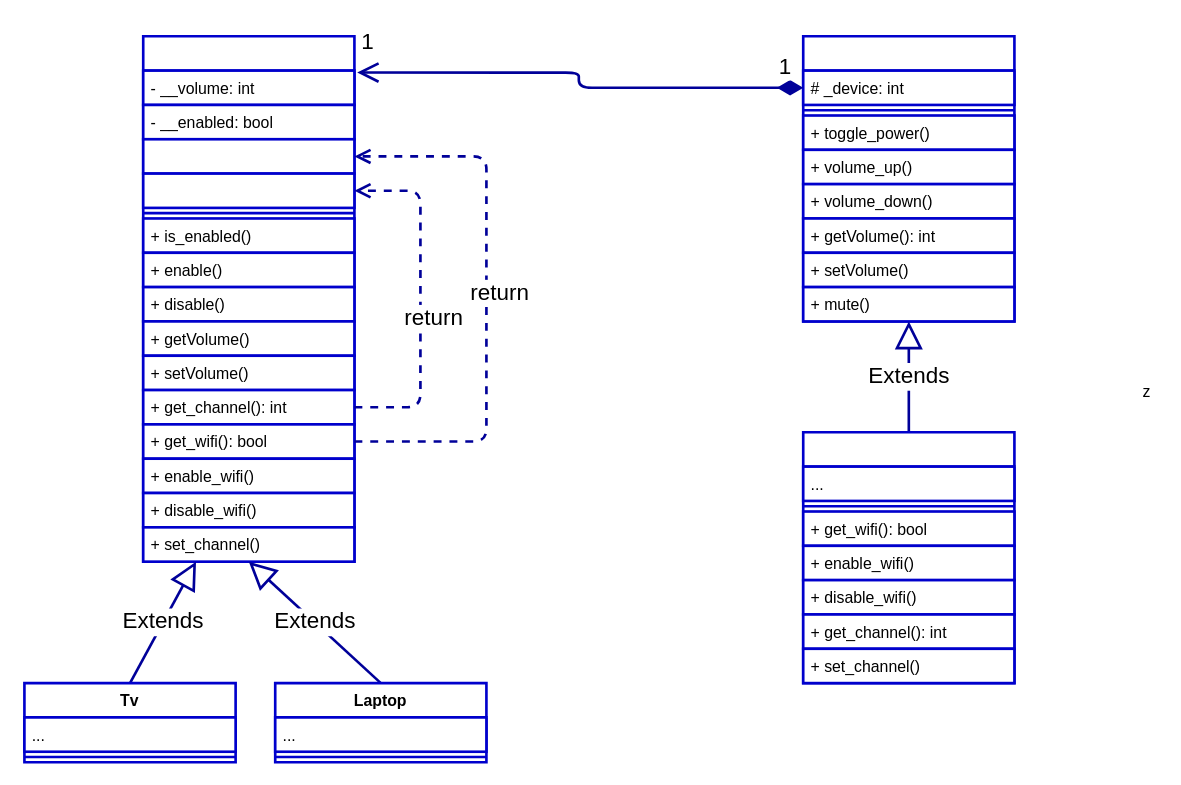
This 1181x785 diagram has some shape labels left out. The box of each missing label's shape, as (x1, y1, x2, y2) in pixels:
- __channel: int: (141, 172, 355, 209)
- __wifi: bool: (141, 137, 355, 174)
AdvancedRemoteControl: (801, 430, 1015, 684)
Device: (141, 34, 355, 562)
RemoteControl: (801, 34, 1015, 322)
